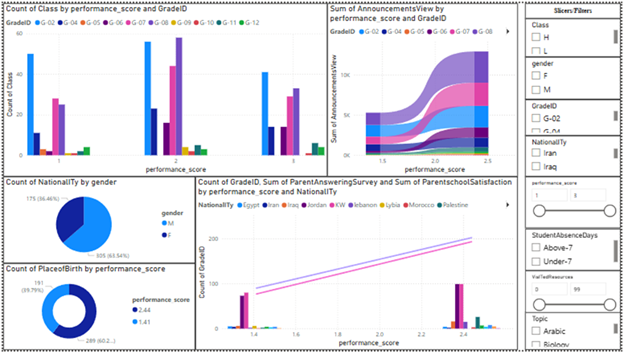

The page's visual inventory and layout, read from the dashboard file:
{"tool":"powerbi","page":{"name":"Performance Overview","canvas":[1280,720],"ordinal":0},"visuals":[{"type":"clusteredColumnChart","fields":{"Category":["clean_lms_data.performance_score"],"Y":["CountNonNull(clean_lms_data.Class)"],"Series":["clean_lms_data.GradeID"]},"box":[0,0,671.7,360],"z":0},{"type":"pieChart","fields":{"Category":["clean_lms_data.gender"],"Y":["CountNonNull(clean_lms_data.NationalITy)"]},"box":[0,360,398.3,180],"z":1000},{"type":"donutChart","fields":{"Category":["absence_kpi.performance_score"],"Y":["CountNonNull(clean_lms_data.PlaceofBirth)"]},"box":[0,540,398.3,180],"z":2000},{"type":"lineClusteredColumnComboChart","fields":{"Y":["CountNonNull(clean_lms_data.GradeID)"],"Category":["absence_kpi.performance_score"],"Series":["clean_lms_data.NationalITy"],"Y2":["Sum(clean_lms_data.ParentAnsweringSurvey)","Sum(clean_lms_data.ParentschoolSatisfaction)"]},"box":[398.3,360,668.3,360],"z":3000},{"type":"slicer","fields":{"Values":["clean_lms_data.Class"]},"box":[1081.7,31.7,198.3,80],"z":4000},{"type":"slicer","fields":{"Values":["clean_lms_data.gender"]},"box":[1081.7,111.7,198.3,88.3],"z":5000},{"type":"slicer","fields":{"Values":["clean_lms_data.GradeID"]},"box":[1081.7,200,198.3,75],"z":6000},{"type":"slicer","fields":{"Values":["clean_lms_data.NationalITy"]},"box":[1081.7,275,198.3,85],"z":7000},{"type":"slicer","fields":{"Values":["clean_lms_data.performance_score"]},"box":[1082.1,360.7,197.9,107.3],"z":8000},{"type":"slicer","fields":{"Values":["clean_lms_data.StudentAbsenceDays"]},"box":[1082.1,468,197.9,86.9],"z":9000},{"type":"slicer","fields":{"Values":["clean_lms_data.VisITedResources"]},"box":[1082.1,554.9,197.9,96.2],"z":10000},{"type":"slicer","fields":{"Values":["clean_lms_data.Topic"]},"box":[1081.7,641.7,198.3,78.3],"z":11000},{"type":"ribbonChart","fields":{"Category":["absence_kpi.performance_score"],"Series":["clean_lms_data.GradeID"],"Y":["Sum(clean_lms_data.AnnouncementsView)"]},"box":[671.7,0,395,360],"z":12000},{"type":"textbox","box":[1081.7,0,198.3,31.7],"z":13000}]}

Visuals, with their boxes in screenshot pixels (x1, y1, x2, y2), scaled from the page's 1280x720 canvas onto the 624x354 screenshot:
clusteredColumnChart - clean_lms_data.performance_score x CountNonNull(clean_lms_data.Class): 0,0,327,177
pieChart - clean_lms_data.gender x CountNonNull(clean_lms_data.NationalITy): 0,177,194,266
donutChart - absence_kpi.performance_score x CountNonNull(clean_lms_data.PlaceofBirth): 0,266,194,353
lineClusteredColumnComboChart - CountNonNull(clean_lms_data.GradeID) x absence_kpi.performance_score: 194,177,520,353
slicer - clean_lms_data.Class: 527,16,623,55
slicer - clean_lms_data.gender: 527,55,623,98
slicer - clean_lms_data.GradeID: 527,98,623,135
slicer - clean_lms_data.NationalITy: 527,135,623,177
slicer - clean_lms_data.performance_score: 528,177,623,230
slicer - clean_lms_data.StudentAbsenceDays: 528,230,623,273
slicer - clean_lms_data.VisITedResources: 528,273,623,320
slicer - clean_lms_data.Topic: 527,316,623,353
ribbonChart - absence_kpi.performance_score x clean_lms_data.GradeID: 327,0,520,177
textbox: 527,0,623,16
